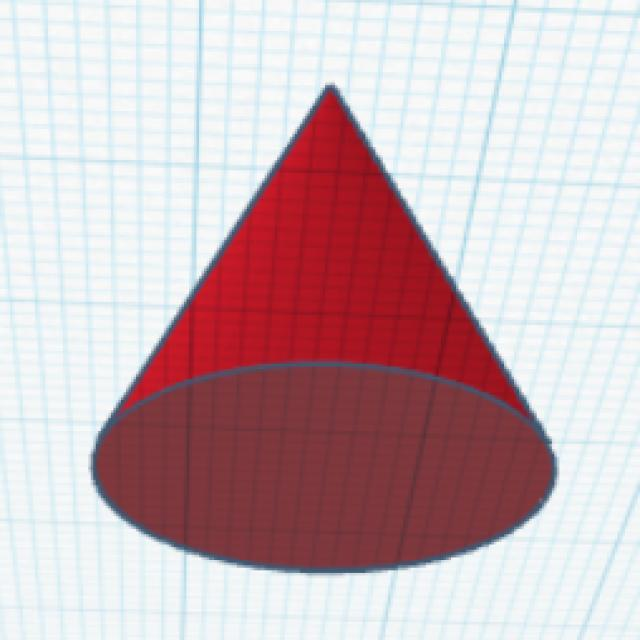cone: (86, 79, 564, 579)
